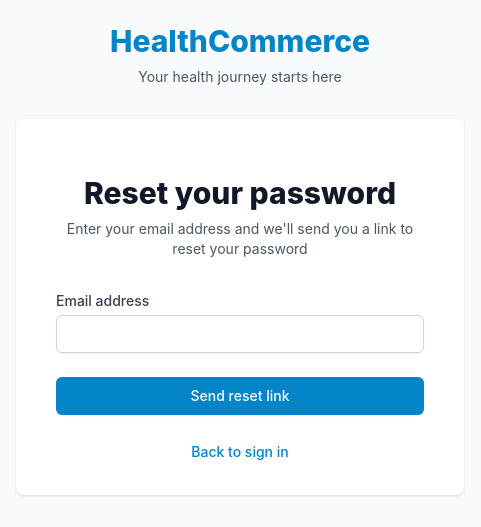
Forgot Password Functionality › should validate email format
Type "invalid-email" into the field with test id "email-input" at coordinates (240, 334), box [56,315,424,353]
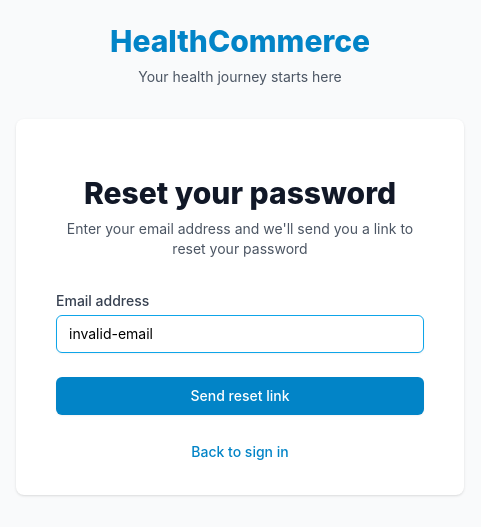
Leave the field with test id "email-input", box [56,315,424,353]
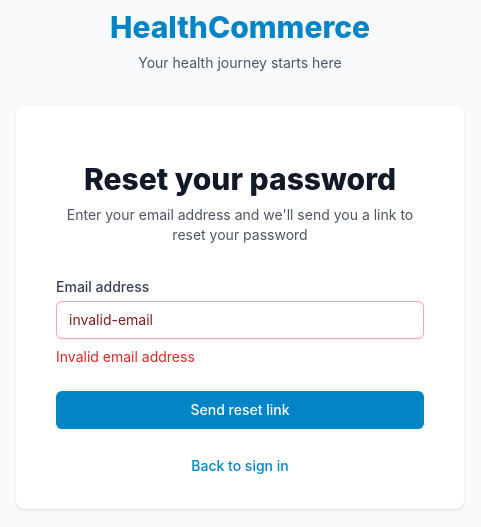
Expected: the text "Invalid email address" is shown, [56,348,195,365]
